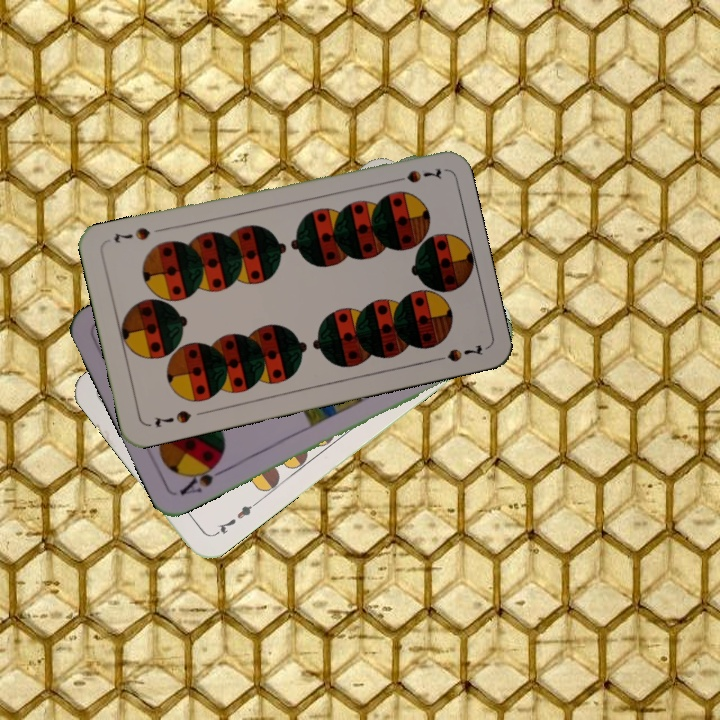E7: (209, 498, 260, 539)
S7: (386, 165, 444, 186), (150, 406, 194, 430)
SA: (175, 456, 230, 498)
